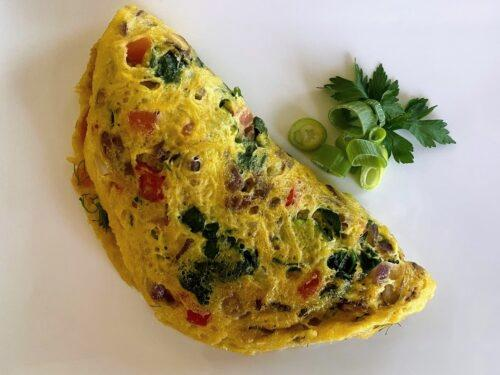omelette: (100, 20, 405, 340)
